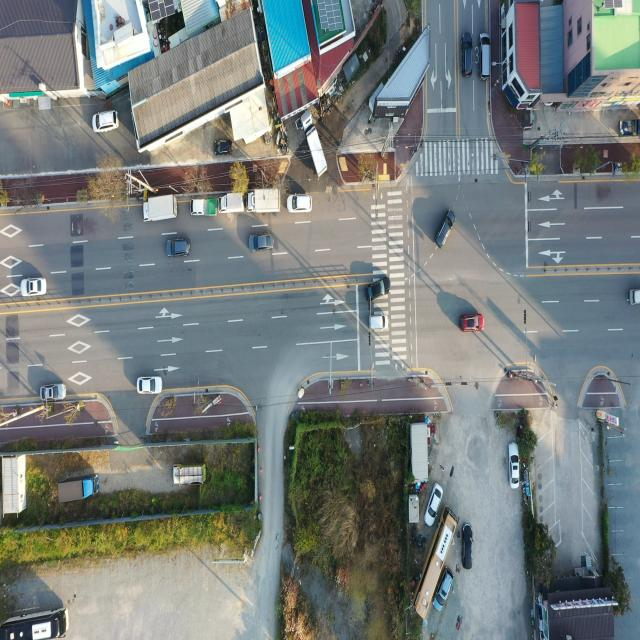car: (430, 565, 452, 611), (438, 210, 455, 251), (426, 485, 442, 526), (93, 109, 120, 133), (459, 521, 472, 564), (461, 33, 473, 77), (288, 192, 313, 213), (368, 278, 391, 300), (42, 382, 67, 402), (22, 277, 48, 296), (168, 238, 192, 258), (136, 376, 160, 396), (251, 234, 275, 252), (510, 444, 520, 487), (460, 313, 482, 332), (369, 314, 387, 330), (630, 288, 640, 306)
large_bus: (415, 507, 460, 618), (0, 605, 72, 640)
medium_truck: (300, 115, 328, 179), (55, 475, 99, 505), (247, 183, 282, 216), (143, 194, 180, 224), (173, 464, 208, 486)
